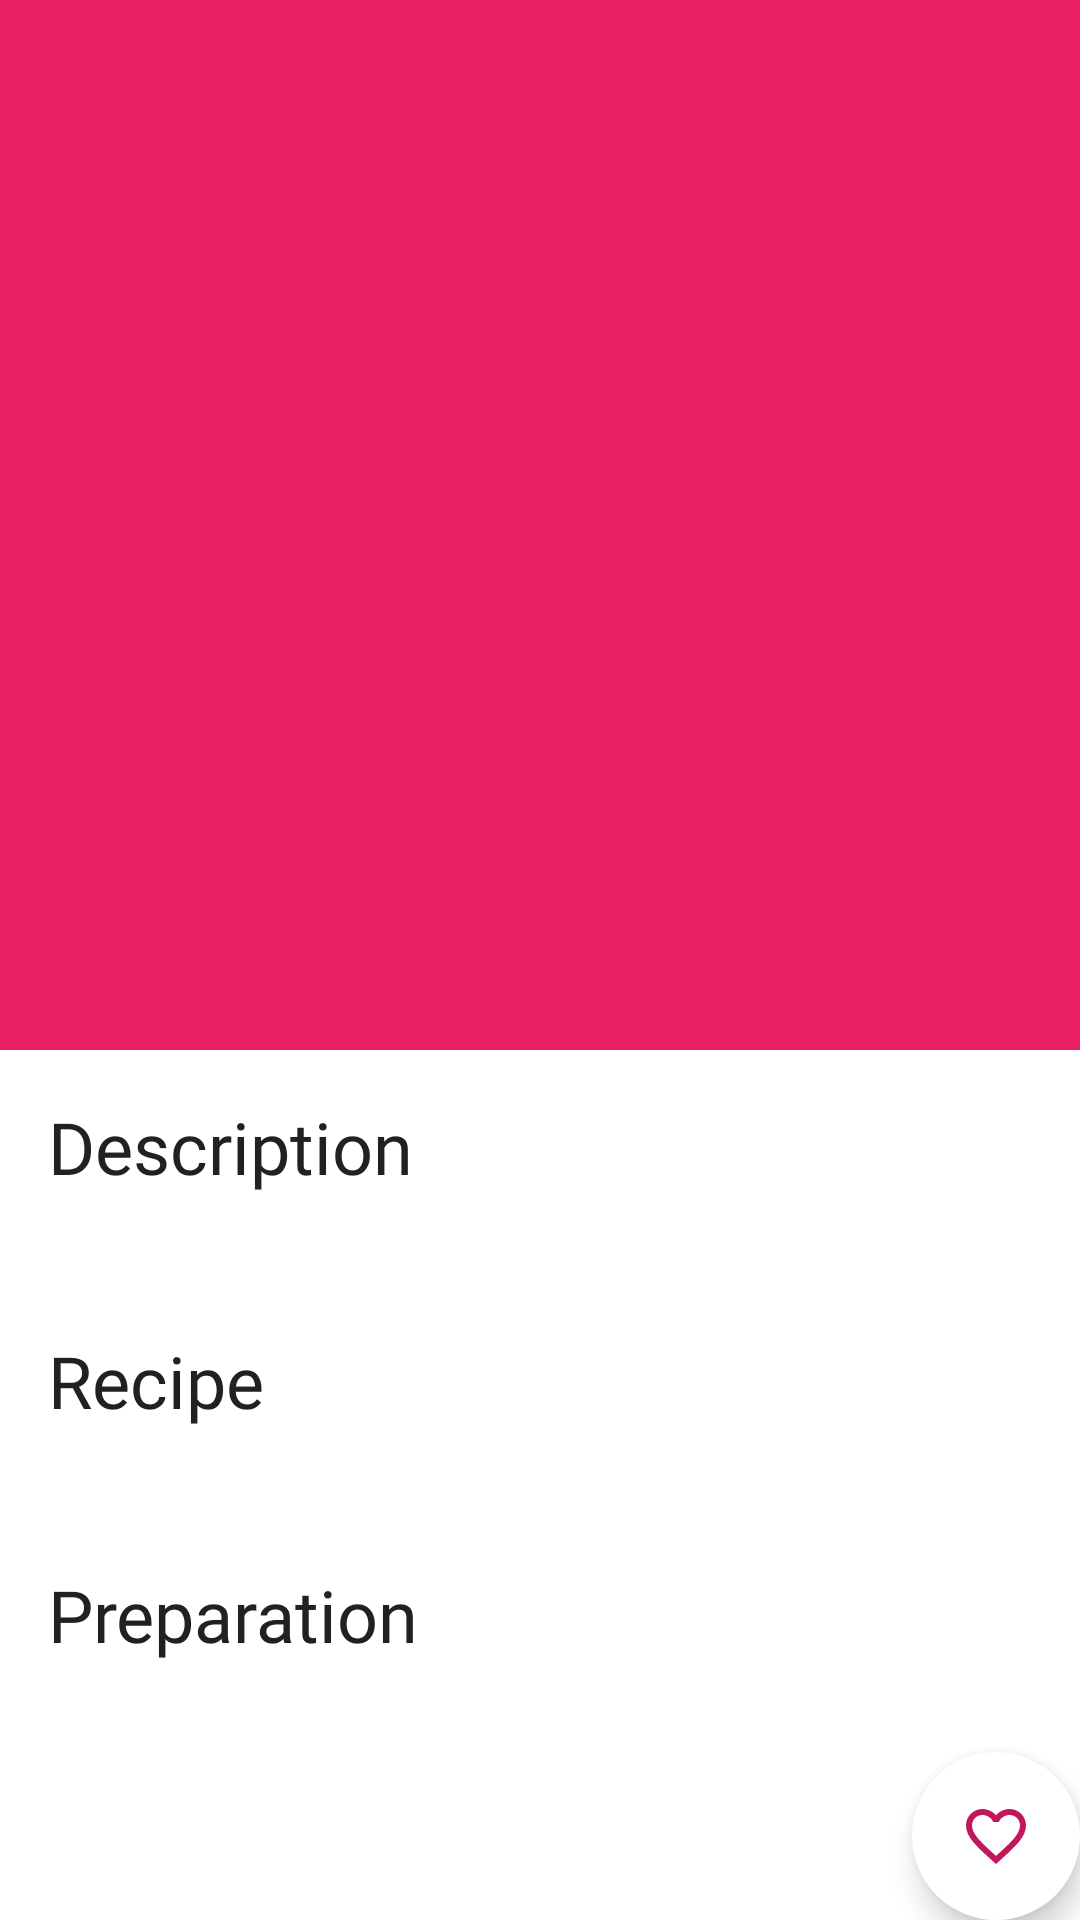

Icons on this 1080w x 1920h Android screen, each with its box as (x1, y1, x2, y2):
favorite level list: (919, 1809, 1080, 1920)
